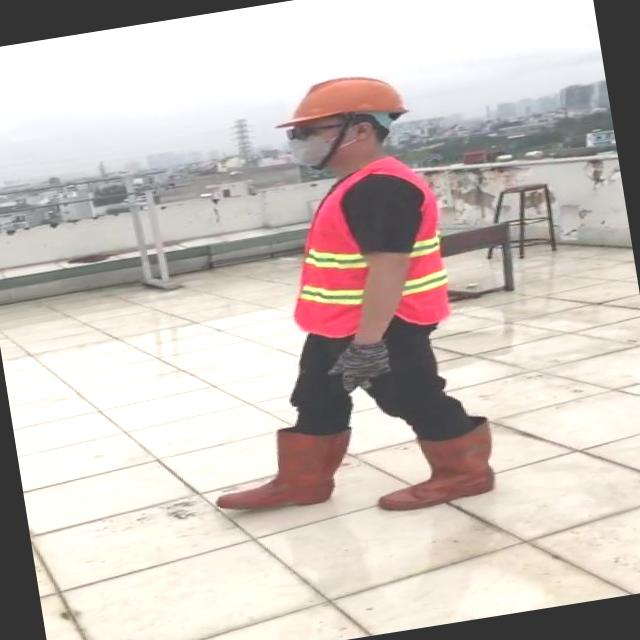boots: (204, 420, 361, 520), (370, 422, 500, 517)
gloves: (321, 334, 398, 396)
helmet: (278, 64, 408, 132)
vest: (269, 153, 451, 344)
